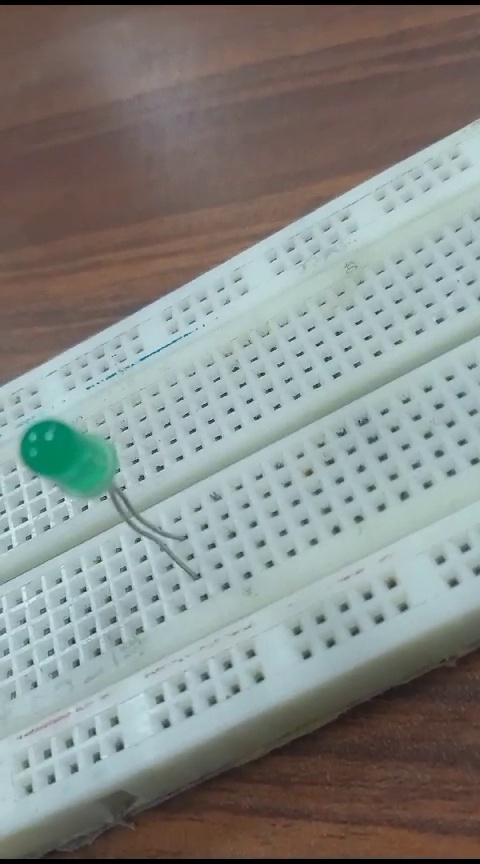LED: (18, 416, 214, 601)
